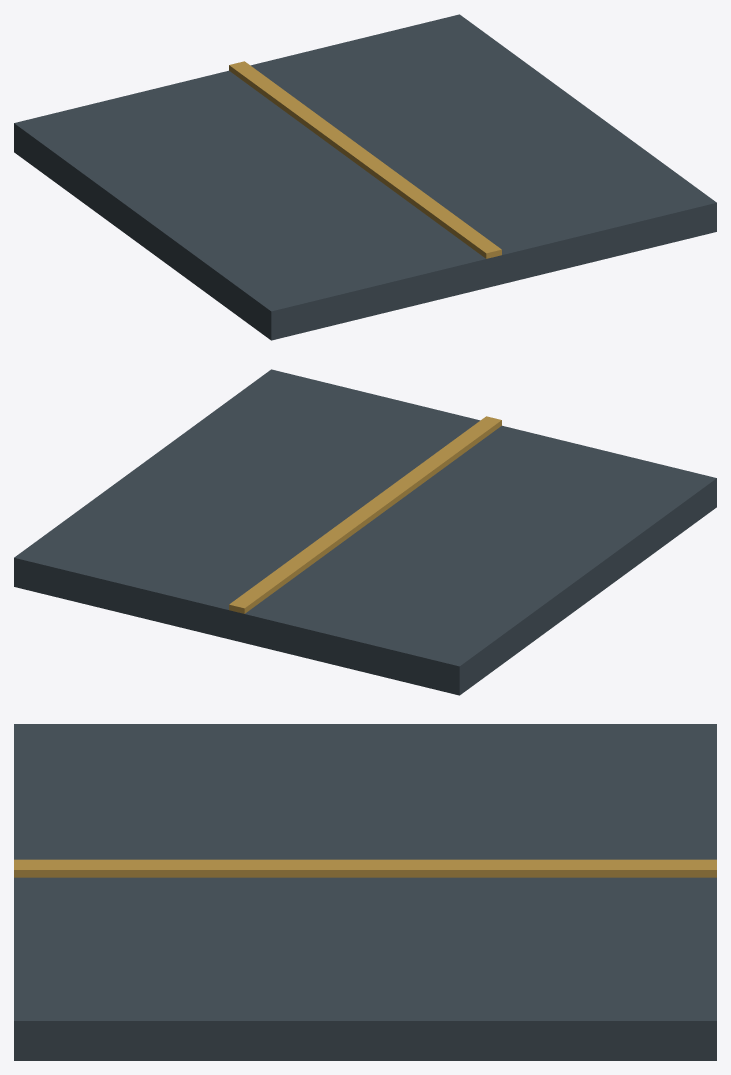
File: terrain-road-straight.lod0.glb
The picture shows the model from 3 angles, top to bottom: view 1: azimuth 30°, elevation 25°; view 2: azimuth 150°, elevation 25°; view 3: azimuth 270°, elevation 25°; orthographic projection. The views are drawn at different scales.
Parts seen in each view (by area): view 1: terrain-road-straight__body; view 2: terrain-road-straight__body; view 3: terrain-road-straight__body.
Boxes of the visible parts, box(x1,y1,x2,y2) form: terrain-road-straight__body: box(14, 14, 716, 340); terrain-road-straight__body: box(14, 369, 716, 695); terrain-road-straight__body: box(14, 724, 716, 1060).
Size of the model in its own units: 2 by 0.149 by 2.
